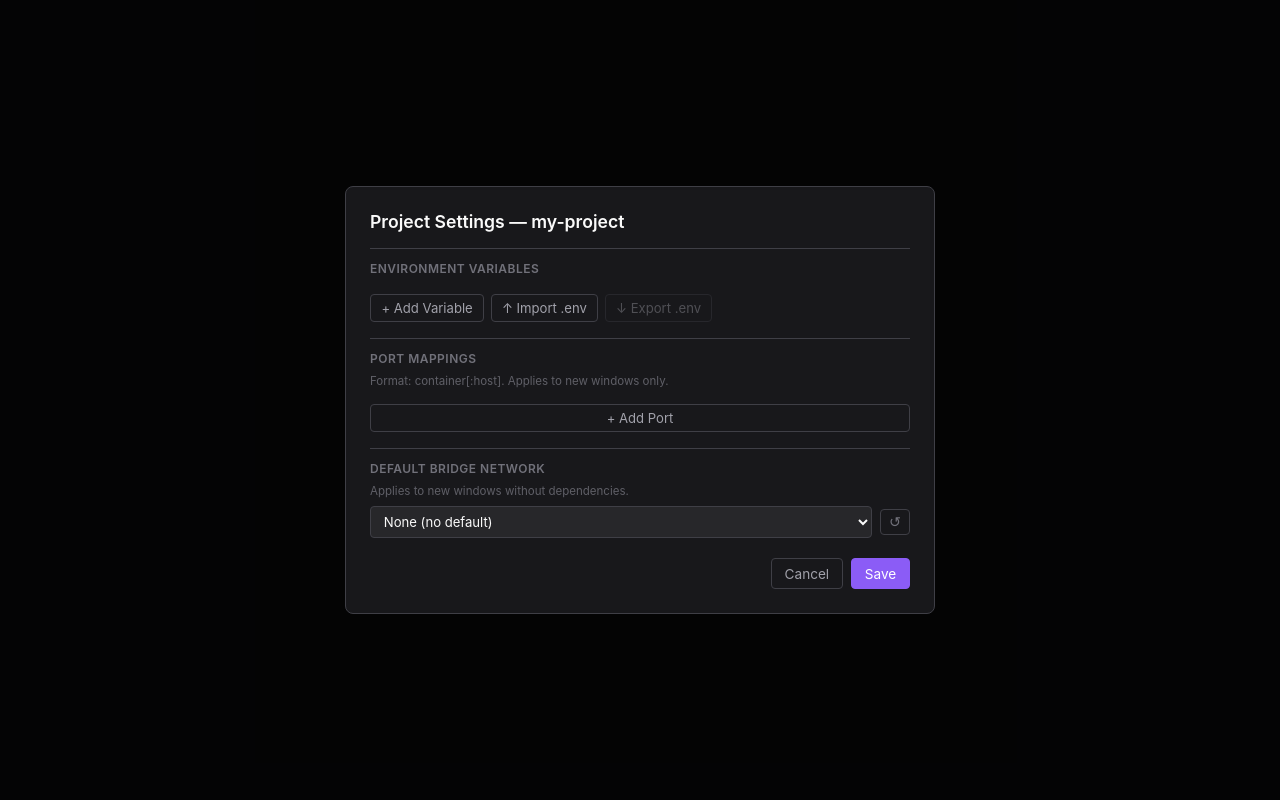
ProjectSettingsView › Add Port appends an empty port row
Click the button "+ Add Port". click: (640, 418)
box: left=370, top=404, right=910, bottom=432
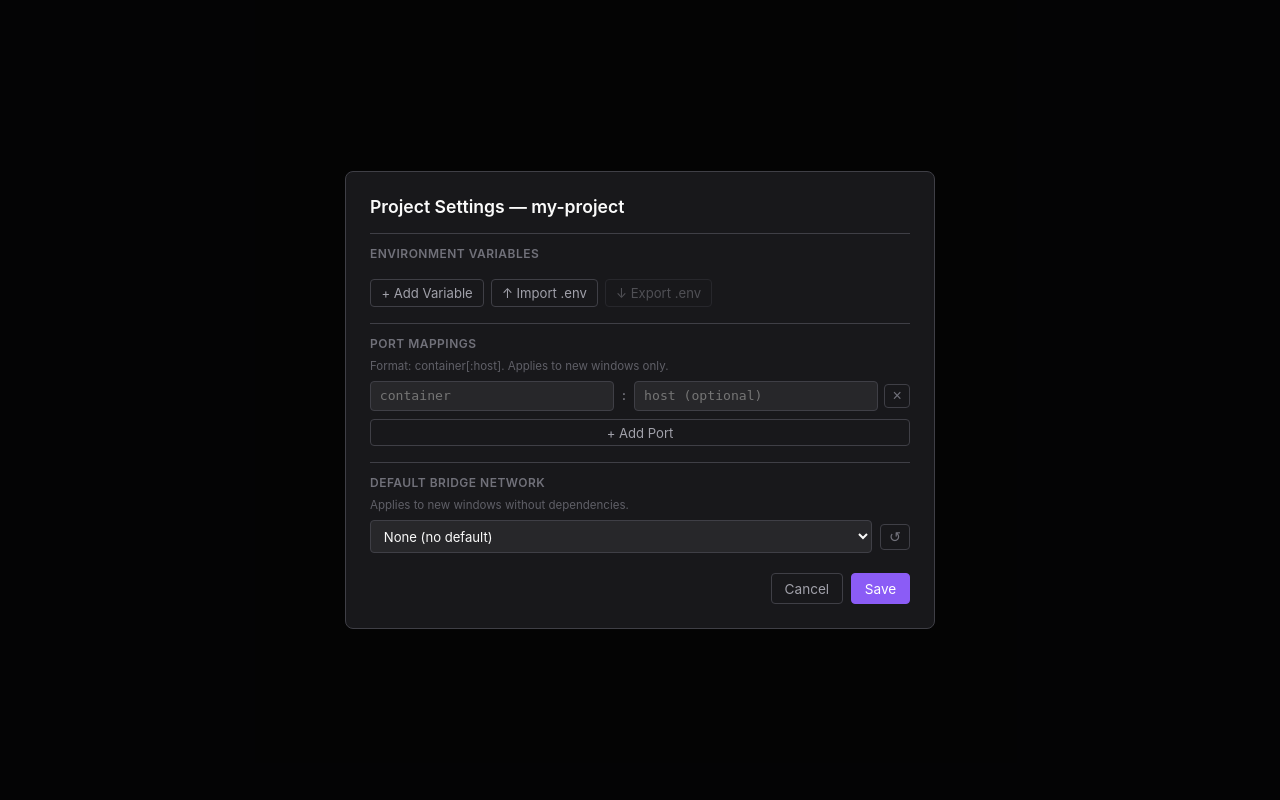
Now the field with placeholder "container" is shown, box left=370, top=381, right=614, bottom=411
